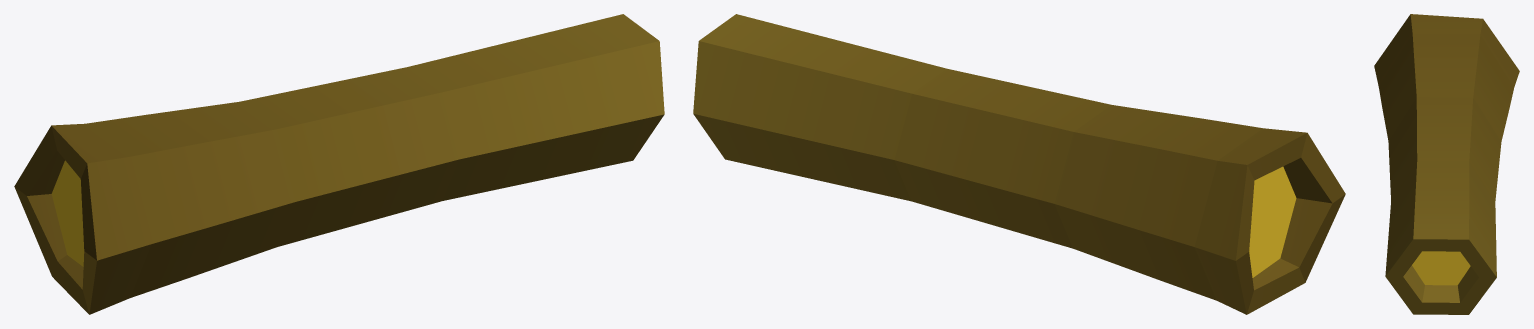
The model's file is log_4.fbx.
3 renders of one model, left to right at view 1: azimuth 30°, elevation 25°; view 2: azimuth 150°, elevation 25°; view 3: azimuth 270°, elevation 25°, orthographic. The views are drawn at different scales.
Parts seen in each view (by area): view 1: log_4; view 2: log_4; view 3: log_4.
Part boxes in pixels (box(x1,y1,x2,y2)): log_4: box(14, 14, 664, 314); log_4: box(693, 14, 1345, 314); log_4: box(1374, 14, 1519, 314).
Bounding box in the file's own units: 1.46 × 0.3592 × 0.4147.
